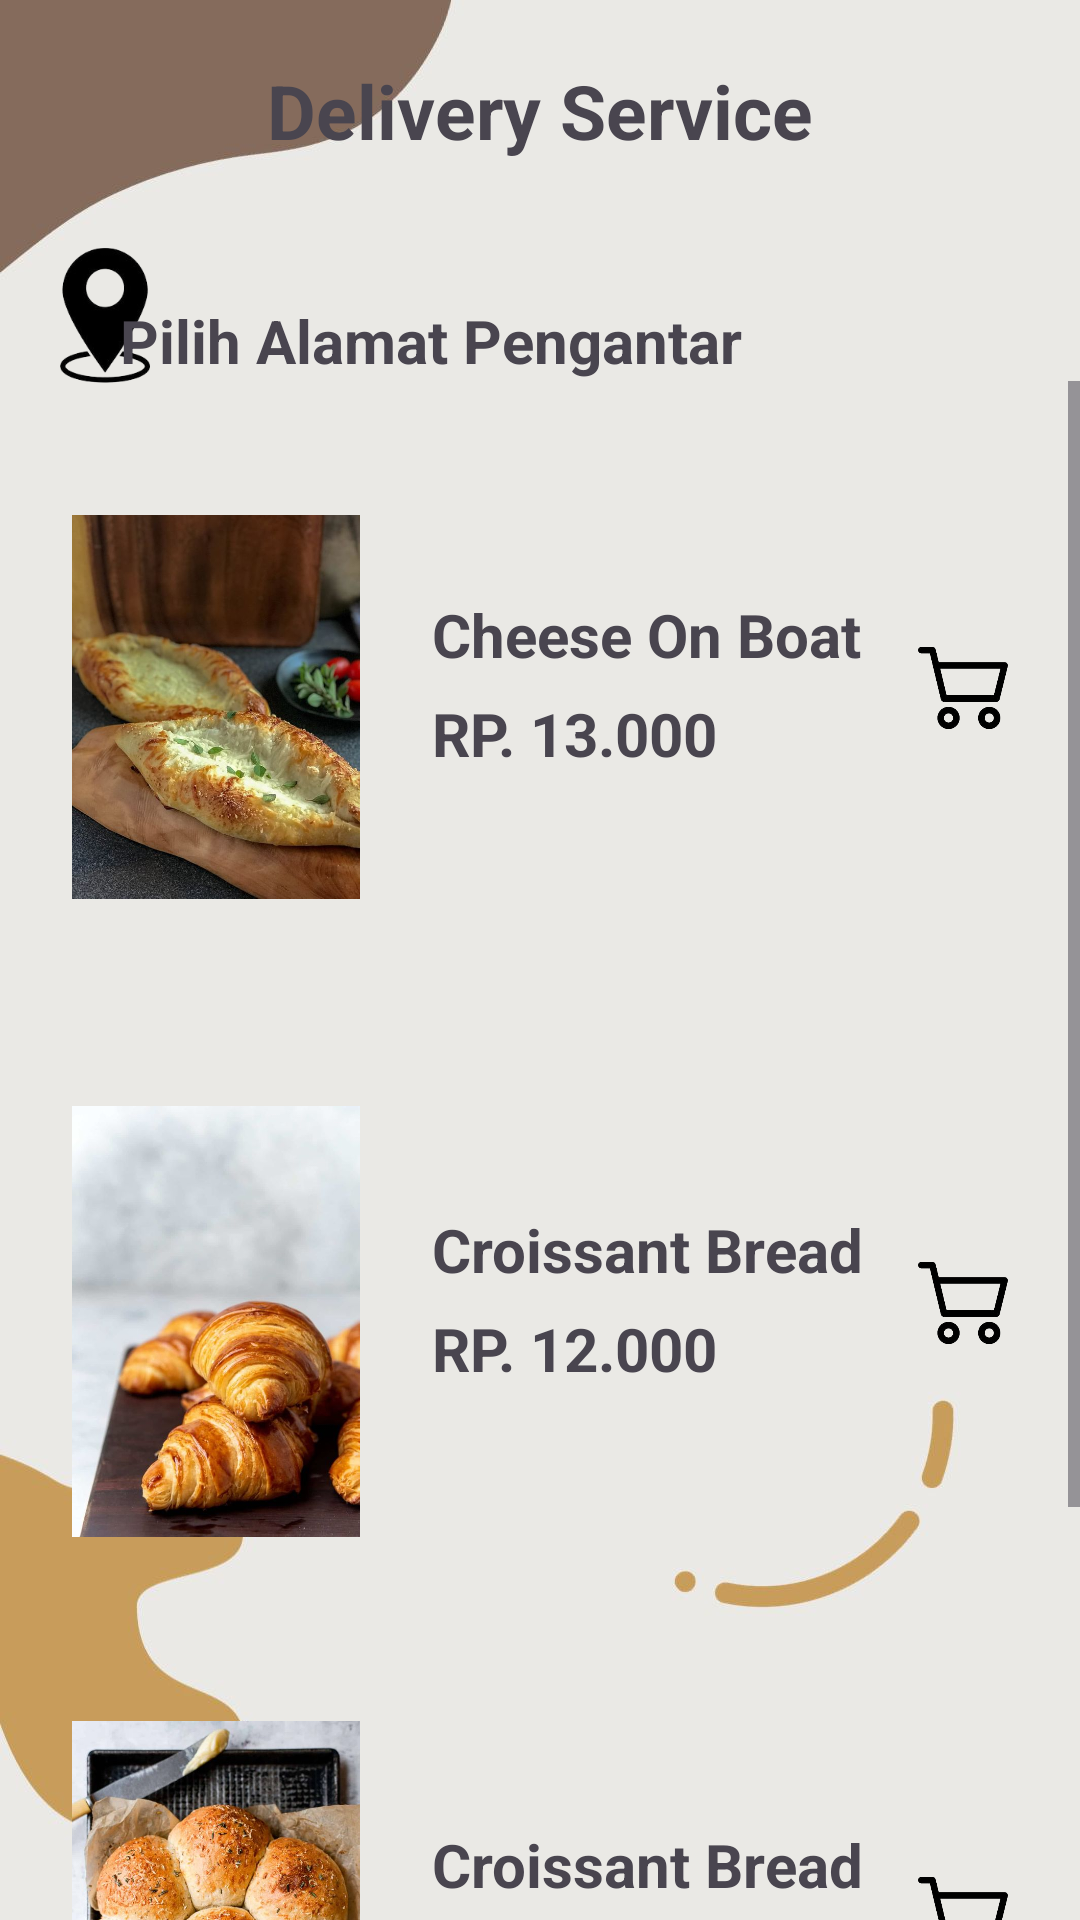

Where icons sit on this 1080px x 1920px app screen, as {"left": x1, "top": y1, "right": x2, "bottom": y2}:
mapss: {"left": 60, "top": 248, "right": 188, "bottom": 383}
